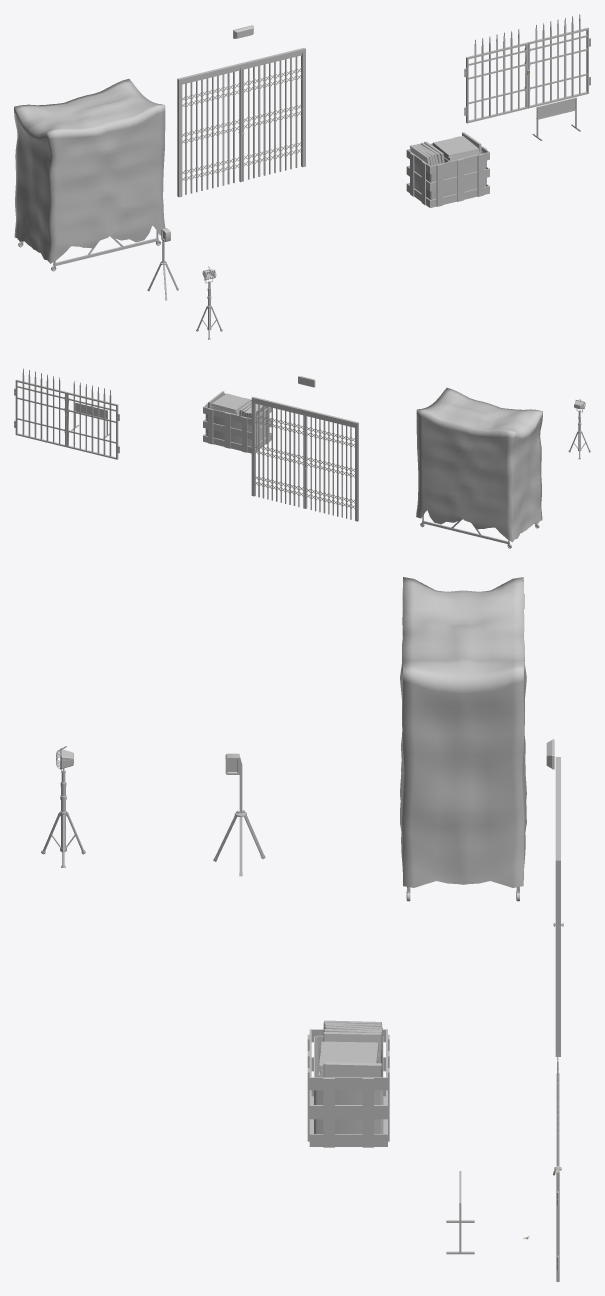
File: Props2.fbx
3 renders of one model, top to bottom at view 1: azimuth 30°, elevation 25°; view 2: azimuth 150°, elevation 25°; view 3: azimuth 270°, elevation 25°, orthographic. The views are drawn at different scales.
Visible parts, largest first — view 1: BuildingScaffoldingCloth, StationGrade, BoxProp, StationGrade2Mirror, StationGrade2, NoEntry, BuildingScaffolding, Searchlight, EmergencyLight; view 2: BuildingScaffoldingCloth, StationGrade, BoxProp, StationGrade2Mirror, StationGrade2, BuildingScaffolding, Searchlight, NoEntry; view 3: BuildingScaffoldingCloth, BoxProp, StationGrade, EmergencyLight, Searchlight.
Boxes of the visible parts, <box> form: BuildingScaffoldingCloth: <box>14,79,165,263</box>; StationGrade: <box>177,47,305,197</box>; BoxProp: <box>406,132,489,207</box>; StationGrade2Mirror: <box>464,29,528,123</box>; StationGrade2: <box>527,14,590,108</box>; NoEntry: <box>532,97,580,140</box>; BuildingScaffolding: <box>18,225,160,271</box>; Searchlight: <box>196,266,222,339</box>; EmergencyLight: <box>147,228,178,300</box>; BuildingScaffoldingCloth: <box>416,388,542,542</box>; StationGrade: <box>251,396,358,521</box>; BoxProp: <box>203,391,271,453</box>; StationGrade2Mirror: <box>66,381,119,459</box>; StationGrade2: <box>14,368,66,447</box>; BuildingScaffolding: <box>420,510,539,548</box>; Searchlight: <box>568,399,590,459</box>; NoEntry: <box>71,402,109,438</box>; BuildingScaffoldingCloth: <box>400,577,526,887</box>; BoxProp: <box>307,1020,389,1147</box>; StationGrade: <box>553,757,563,1056</box>; EmergencyLight: <box>213,753,265,876</box>; Searchlight: <box>41,746,85,867</box>.
Bounding box in the file's own units: 854 × 1856 × 467.
